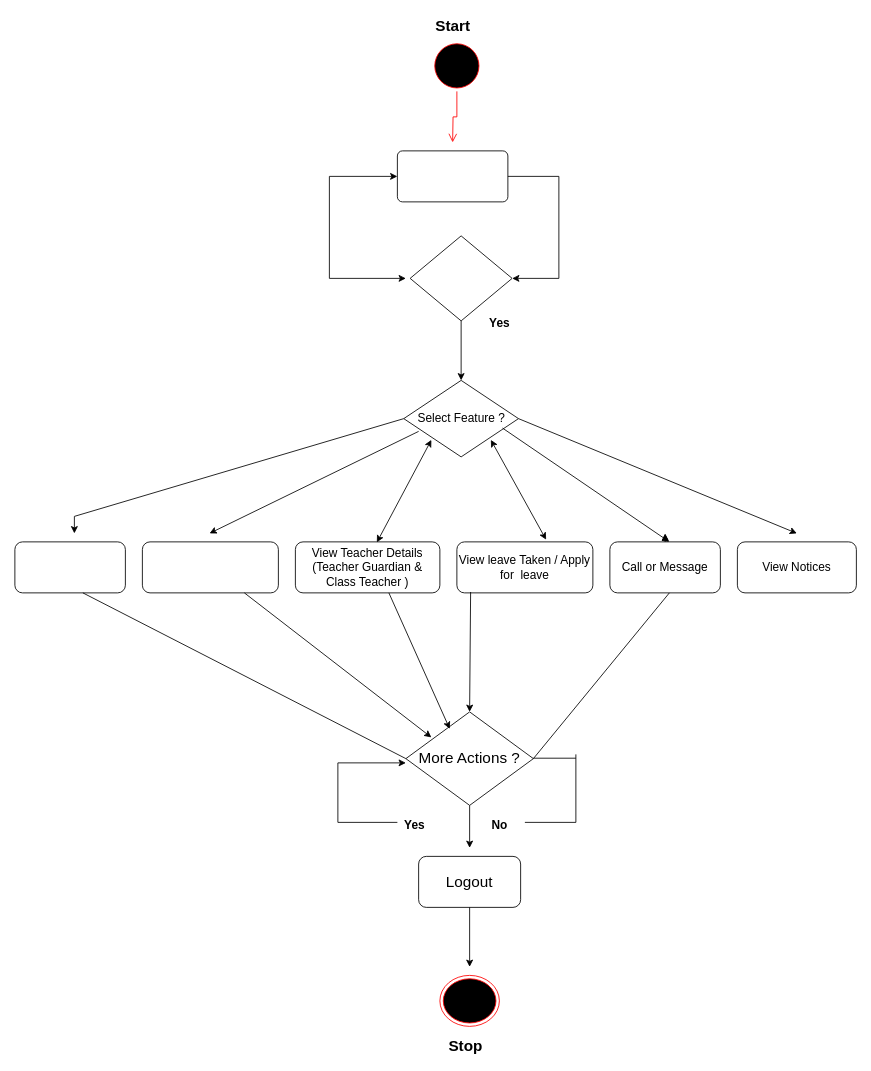
Some shapes in this 871 by 1071 pixel diagram are drawn without their labels. The shapes that lost their labels are listed below. From the top down, each one's box as (x1, y1, x2, y2) in pixels, then its label:
(397, 150, 508, 202): Login to Campus View
(409, 235, 512, 321): Dashboard
(14, 541, 125, 593): View Time Table
(142, 541, 278, 593): View Attendance and Bunk Graph
